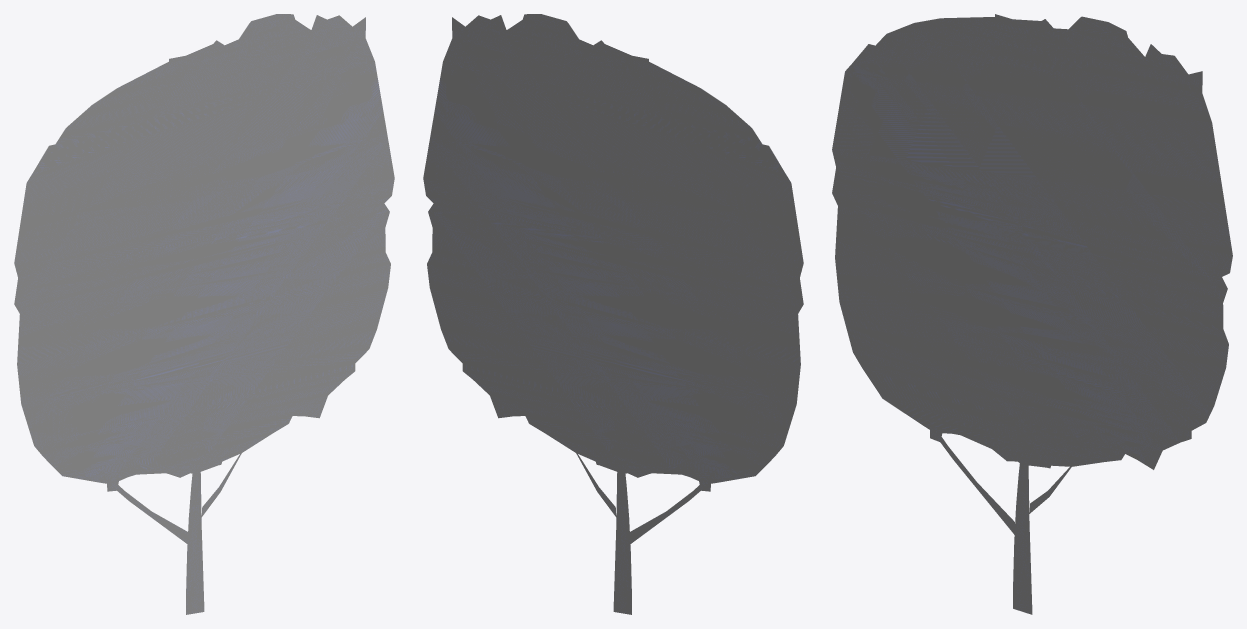
Rendered from apple-tree.dae.
3 views of the same model, side by side, from view 1: azimuth 30°, elevation 25°; view 2: azimuth 150°, elevation 25°; view 3: azimuth 330°, elevation 25° (orthographic). The views are drawn at different scales.
Visible parts, largest first — view 1: SketchUp (×3); view 2: SketchUp (×3); view 3: SketchUp (×3).
Part boxes in pixels (x1=…): SketchUp (×3): x1=14, y1=14, x2=394, y2=614; SketchUp (×3): x1=423, y1=14, x2=803, y2=614; SketchUp (×3): x1=832, y1=14, x2=1232, y2=614.
Bounding box in the file's own units: 214 × 0 × 312.
